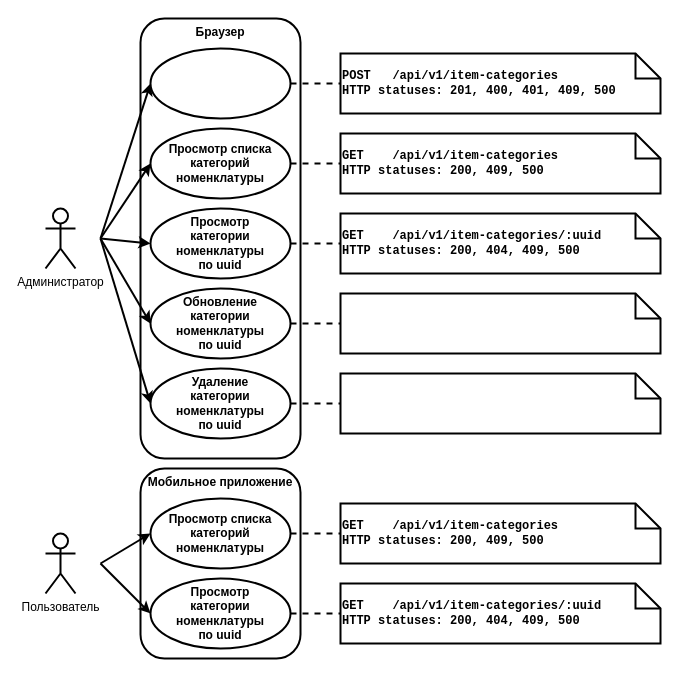
Some shapes in this 679 by 676 pixel diagram are drawn without their labels. Here are the shapes that lost their labels. From the top down, the centre of each, then its label:
At (x=220, y=83): "Создание категории номенклатуры".
At (x=500, y=323): "PATCH /api/v1/item-categories/:uuid HTTP statuses: 200, 400, 401, 404, 409, 500".
At (x=500, y=403): "DELETE /api/v1/item-categories/:uuid HTTP statuses: 200, 400, 401, 404, 409, 500".
